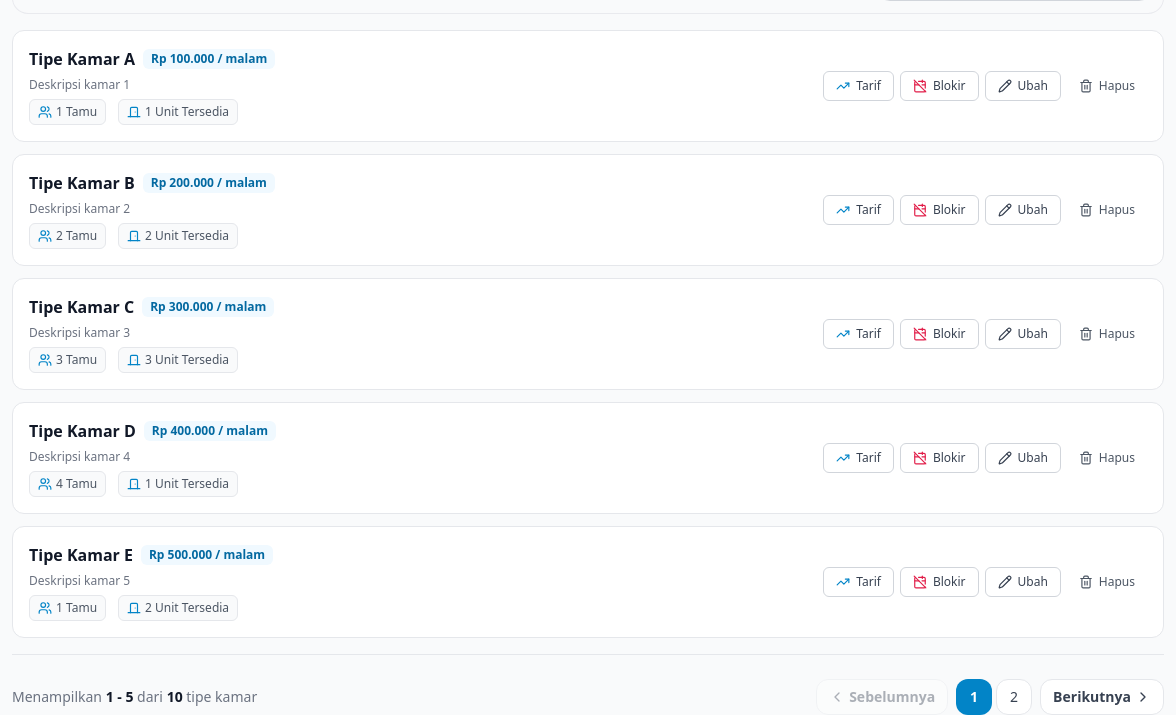
it: RoomListSection Integration - Search, Sort & Pagination › navigates to page 2 when clicking page 2 button
(page scrolled)
Expected: the heading "Tipe Kamar A" is shown, [29,47,135,71]
Click the button named "Halaman 2". click: (1014, 697)
box: [996,679,1032,714]
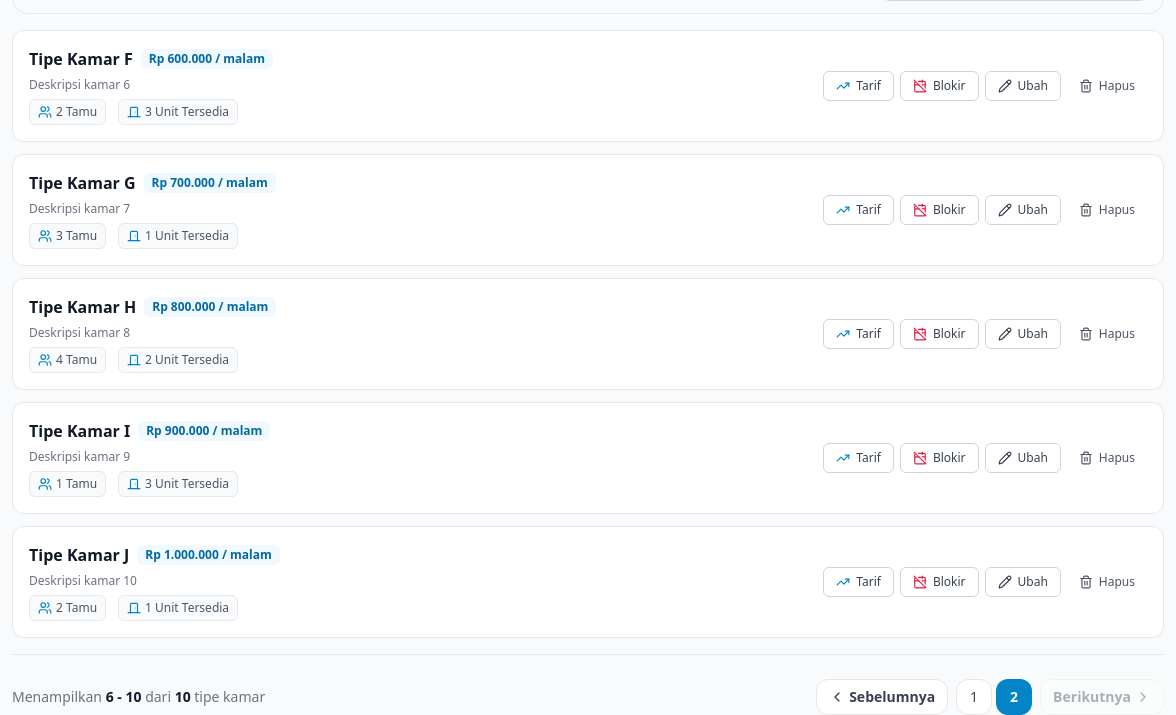
Expected: the heading "Tipe Kamar F" is shown, [29,47,133,71]
Expected: the heading "Tipe Kamar J" is shown, [29,543,129,567]
Expected: the heading "Tipe Kamar A" is gone
